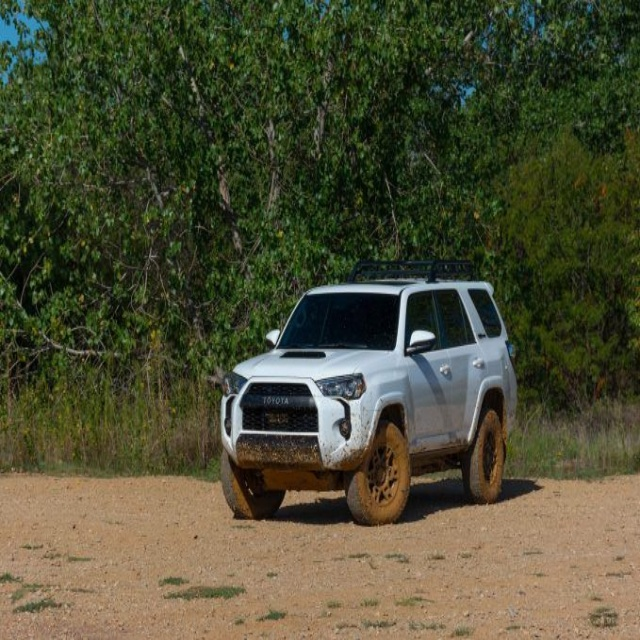Car: (218, 277, 517, 523)
